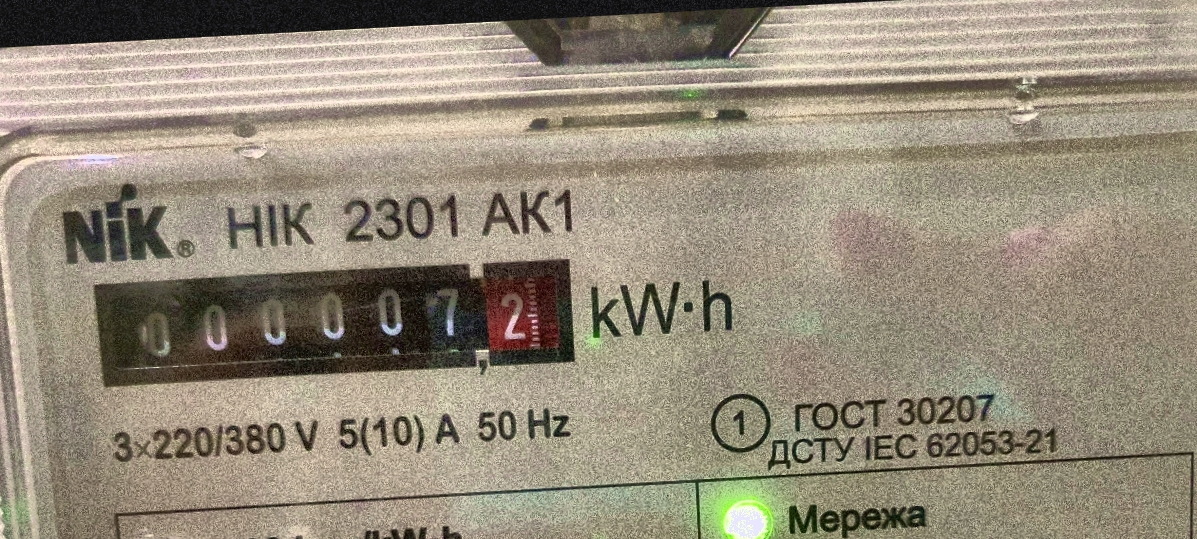0: (197, 299, 234, 352), (373, 285, 408, 339), (315, 287, 349, 342), (257, 293, 291, 347), (141, 306, 175, 359)
2: (497, 290, 530, 342)
7: (431, 283, 464, 339)
screen: (76, 238, 596, 407)
